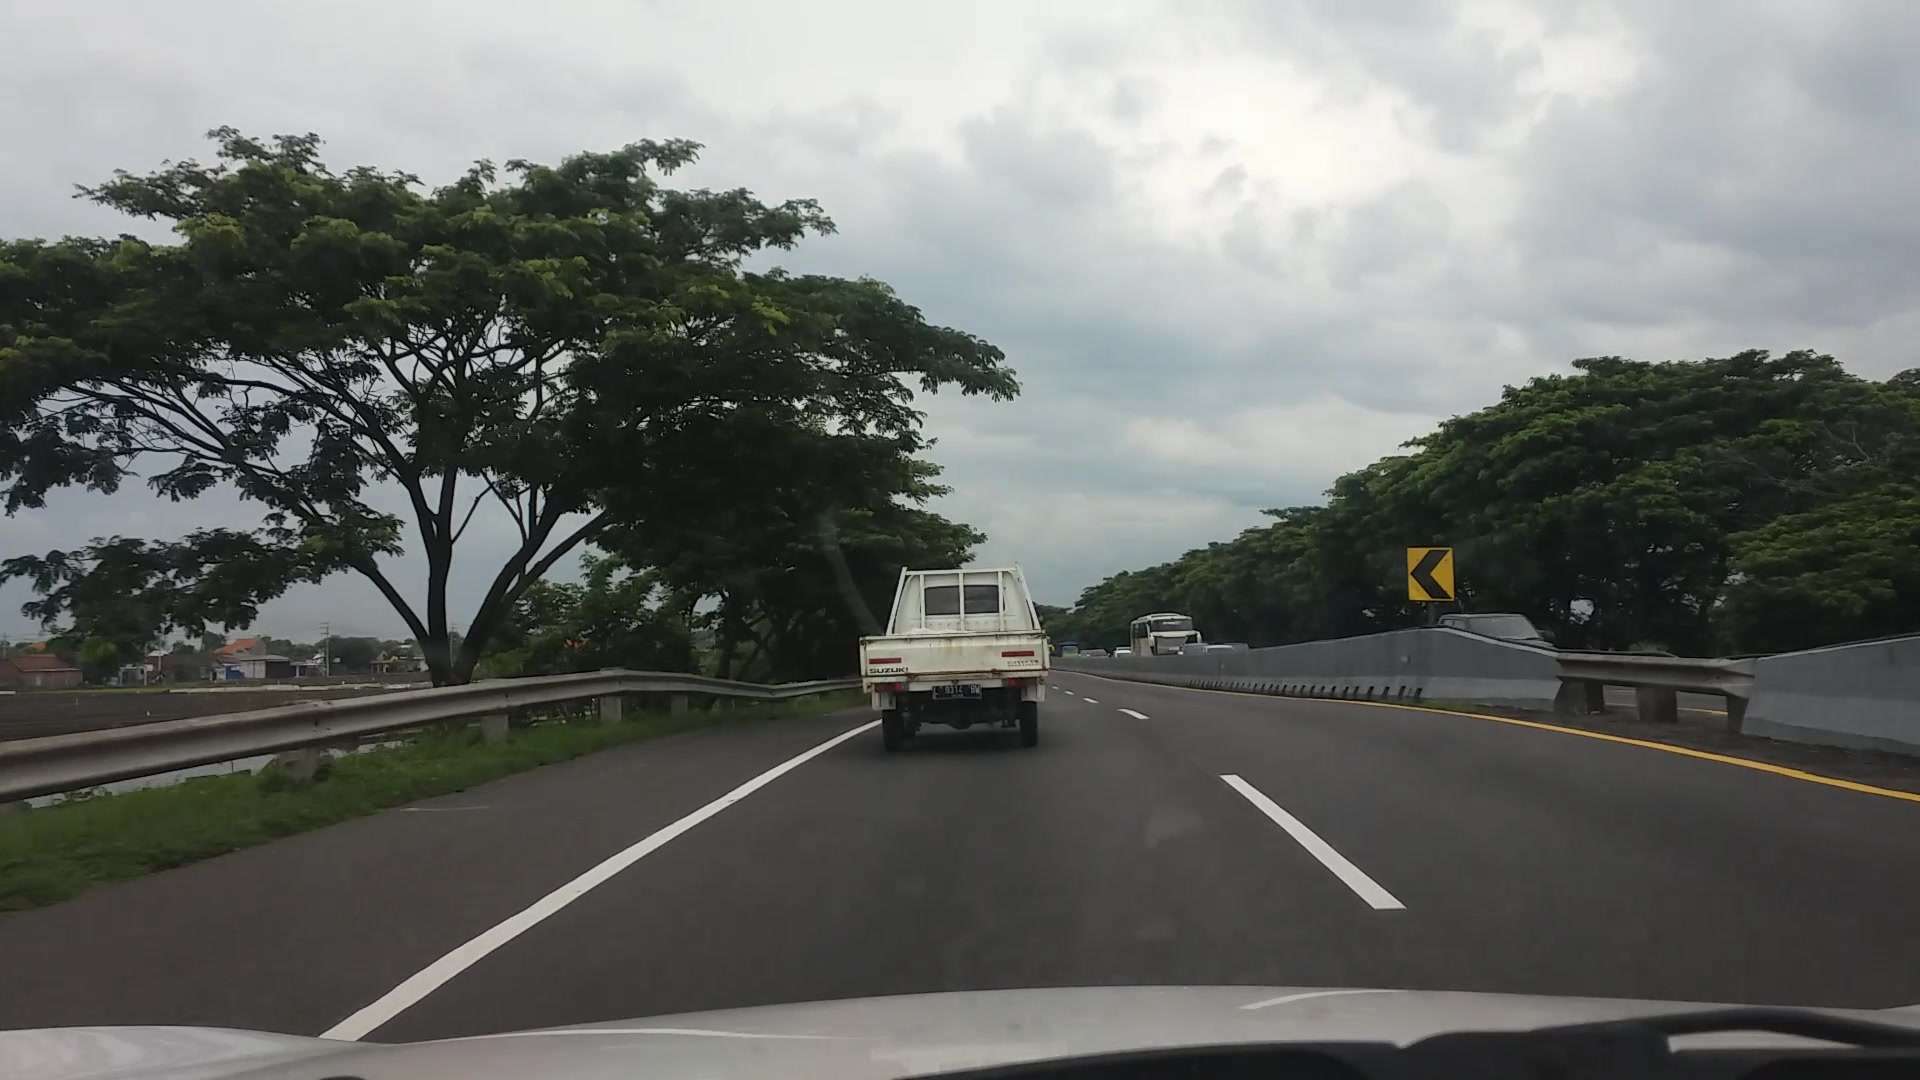plate_positive: (932, 683, 981, 700)
